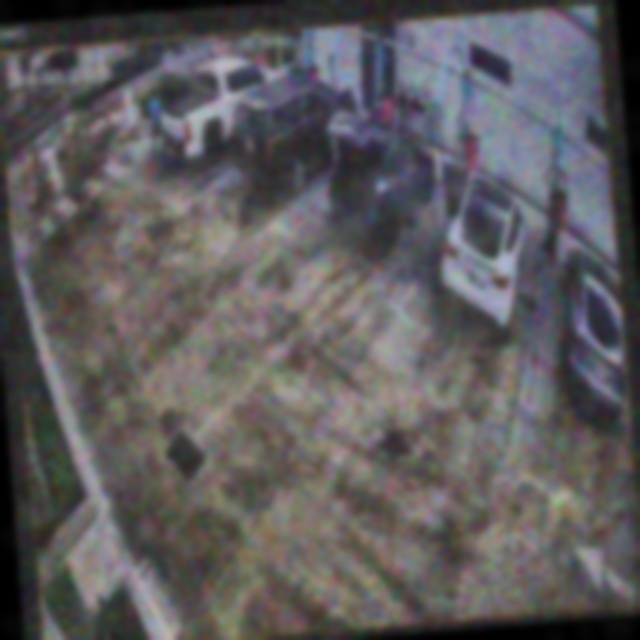Car: (432, 156, 537, 336), (322, 102, 444, 244), (229, 75, 357, 192), (159, 48, 286, 164)
